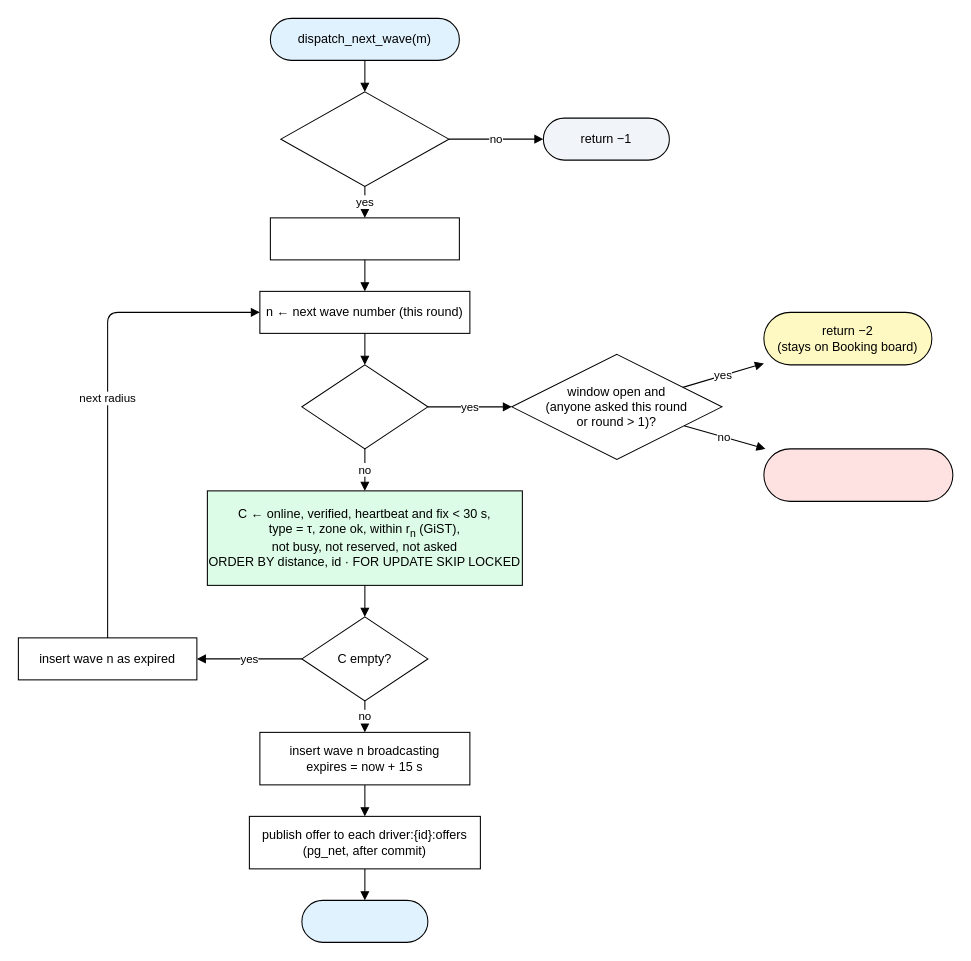
Some shapes in this 971 by 961 pixel diagram are drawn without their labels. The centre of each missing label's shape, as x and y in pixels:
"cancel: no_ambulance_available return 0" goes at point 858,474.
"expire open waves of m" goes at point 364,238.
"m requesting and unassigned?" goes at point 364,138.
"n > 3?" goes at point 364,406.
"return n" goes at point 364,920.
